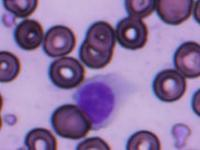L: (74, 72, 123, 130)
